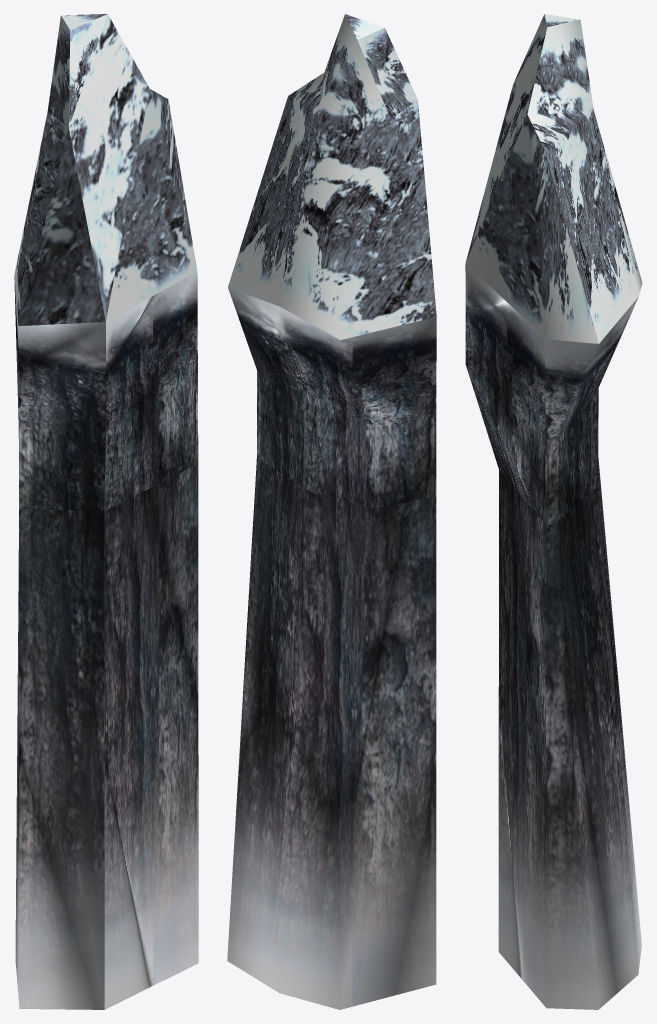
Rendered from san010.obj.
The picture shows the model from 3 angles, left to right: view 1: azimuth 30°, elevation 25°; view 2: azimuth 150°, elevation 25°; view 3: azimuth 270°, elevation 25°; orthographic projection. The views are drawn at different scales.
Parts seen in each view (by area): view 1: san010; view 2: san010; view 3: san010.
Part boxes in pixels (box(x1,y1,x2,y2)): san010: box(14, 14, 198, 1009); san010: box(227, 14, 436, 1009); san010: box(465, 14, 642, 1009).
Bounding box in the file's own units: 155 × 776 × 133.
